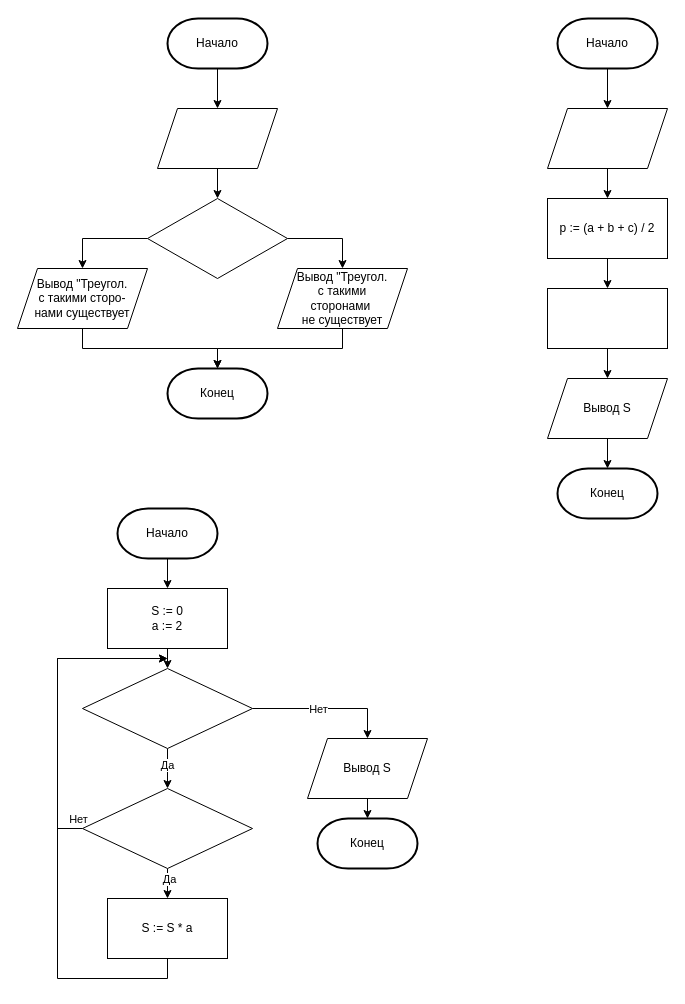
Image size: 685x1004. Some labels were removed from this diagram. Each missing label, with the box of its shape:
a <= 30: (82, 668, 252, 748)
a mod 2 = 0: (82, 788, 252, 868)
S:= √(p(p-a)(p-b)(p-c)): (546, 288, 668, 348)
x + y > z И x + z > y И z + y > x: (146, 198, 288, 278)
Ввод a, b, c: (546, 108, 668, 168)
Ввод x, y, z: (156, 108, 278, 168)
